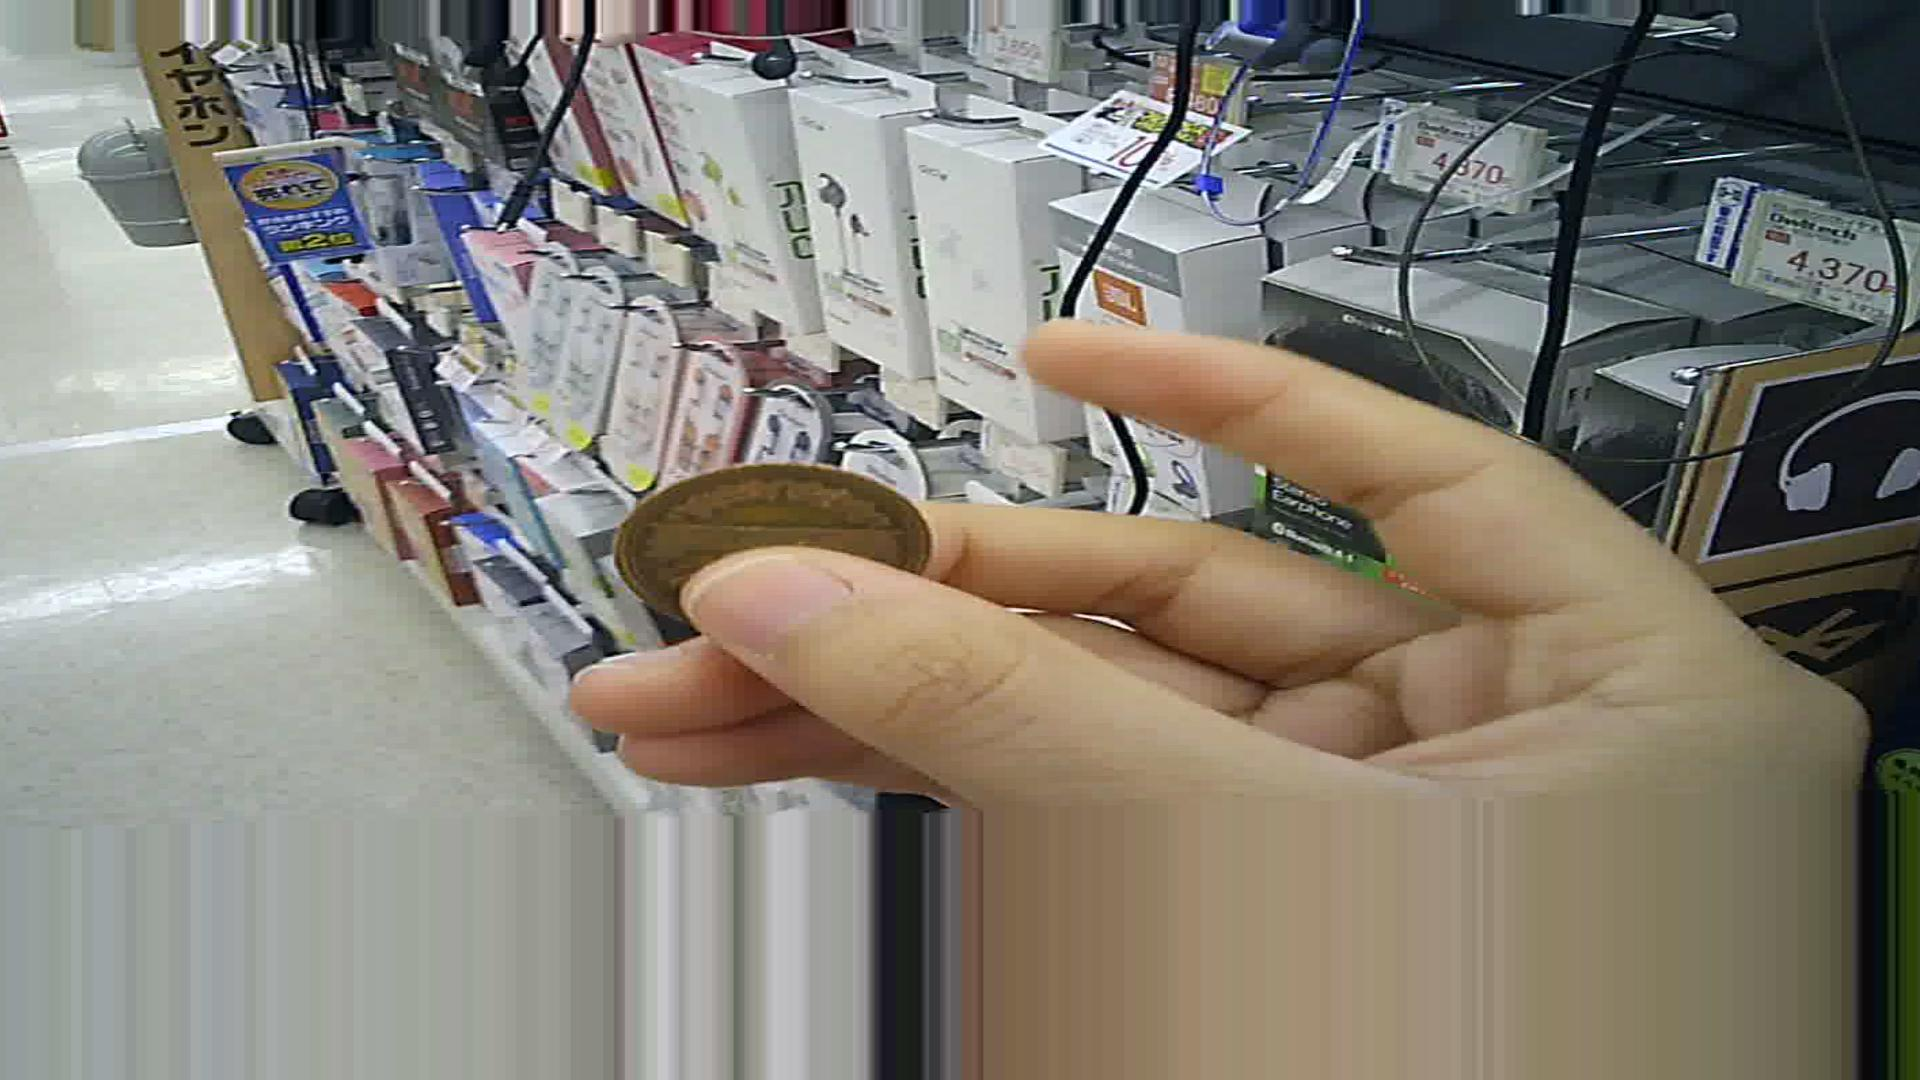10 Yen: (597, 442, 952, 636)
